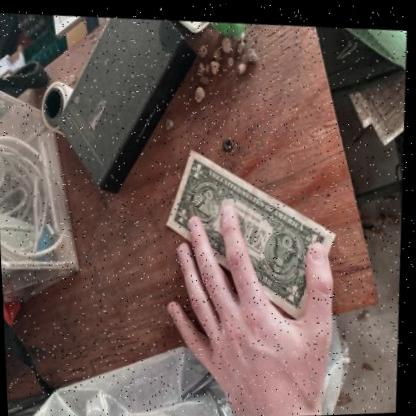dollar_back: (169, 144, 338, 317)
